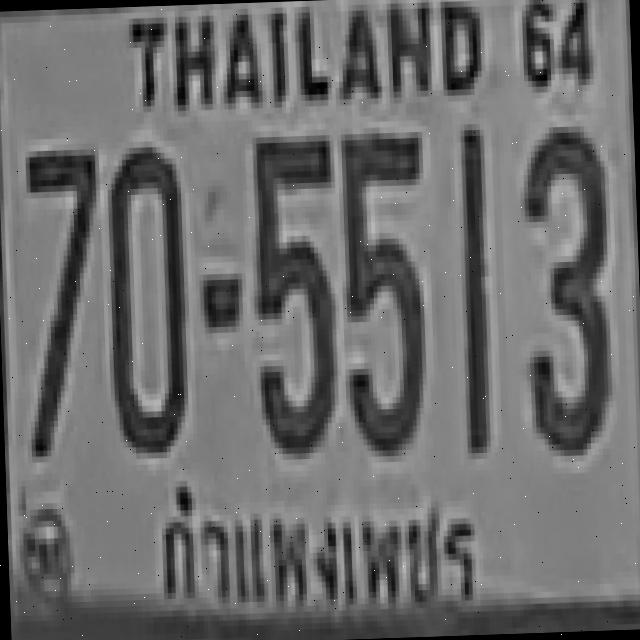0: (104, 142, 188, 450)
1: (454, 126, 492, 438), (454, 124, 491, 412)
3: (516, 116, 612, 448)
5: (336, 126, 428, 452), (248, 132, 340, 452)
7: (20, 142, 104, 450), (22, 143, 102, 345)
KamphaengPhet: (138, 463, 494, 627)
